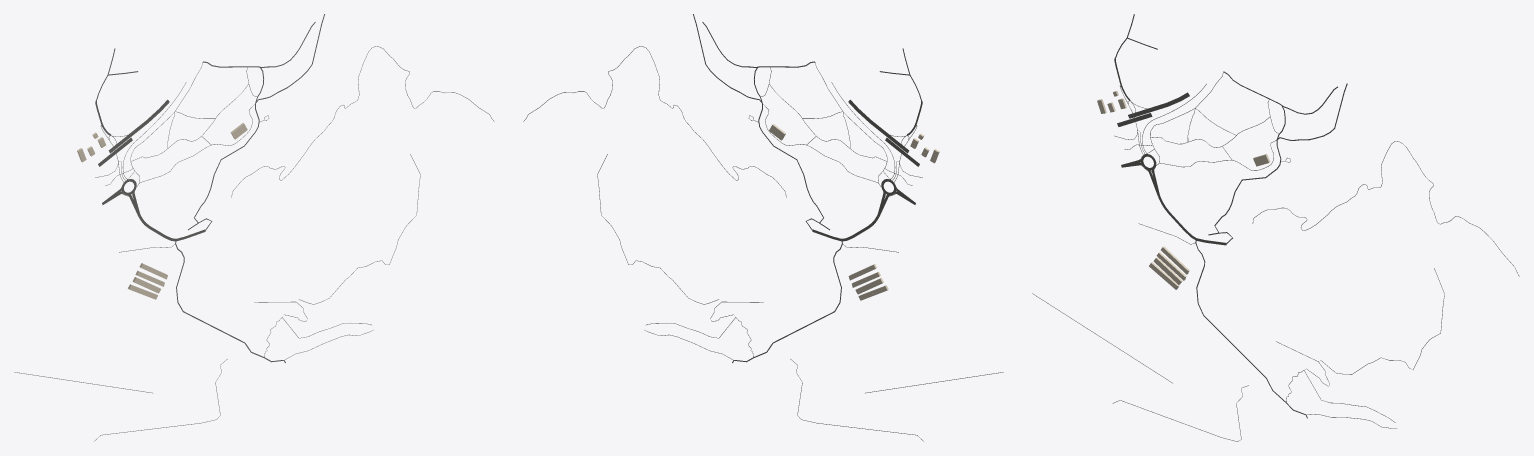
File: historic-palestine-08_23_3501_3177.glb
The picture shows the model from 3 angles, left to right: view 1: azimuth 30°, elevation 25°; view 2: azimuth 150°, elevation 25°; view 3: azimuth 330°, elevation 25°; orthographic projection.
Size of the model in its own units: 1556 by 1228 by 8.7.
